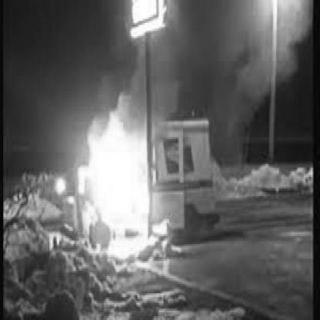Fire: (77, 103, 155, 265)
